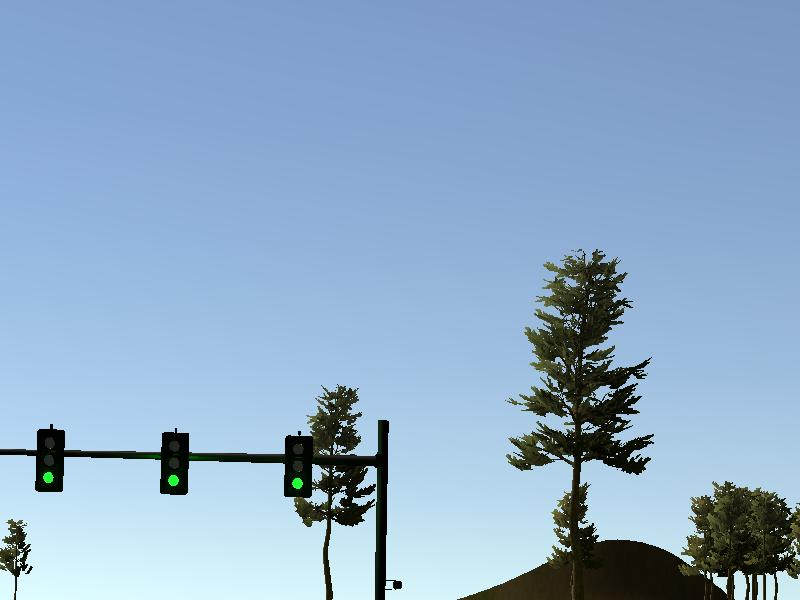green: (36, 428, 64, 492), (160, 430, 188, 494), (284, 433, 312, 497)
